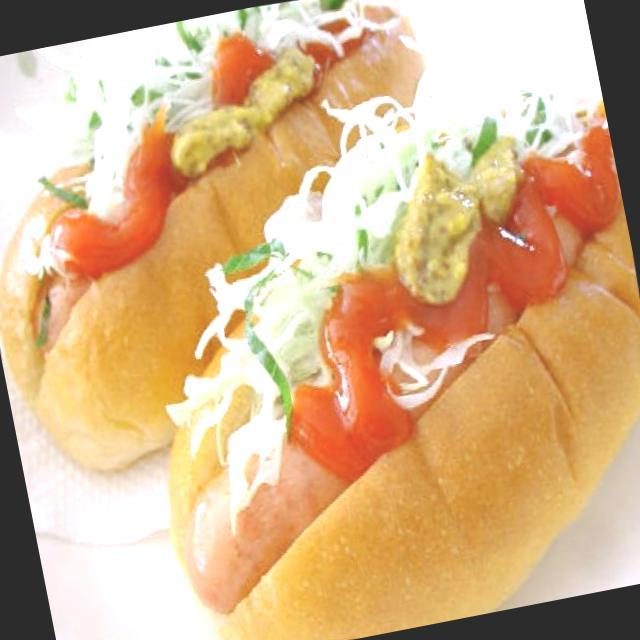Hot Dog: (105, 28, 640, 640)
